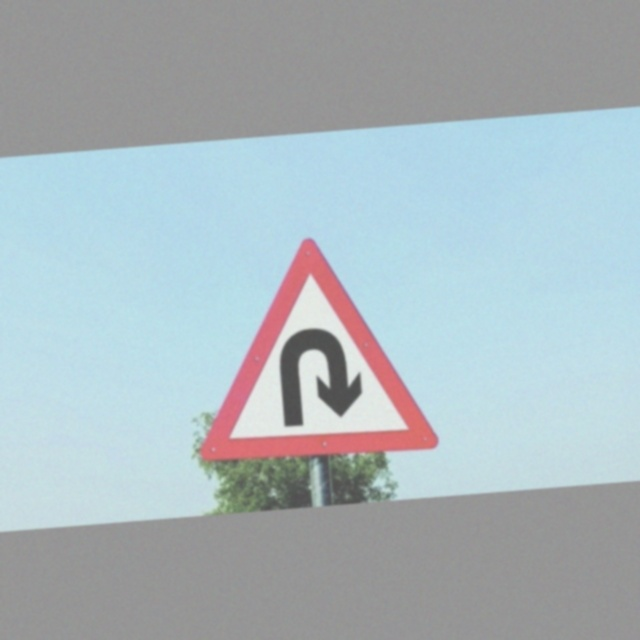Right_Hair_Pin_Bend: (191, 227, 444, 465)
